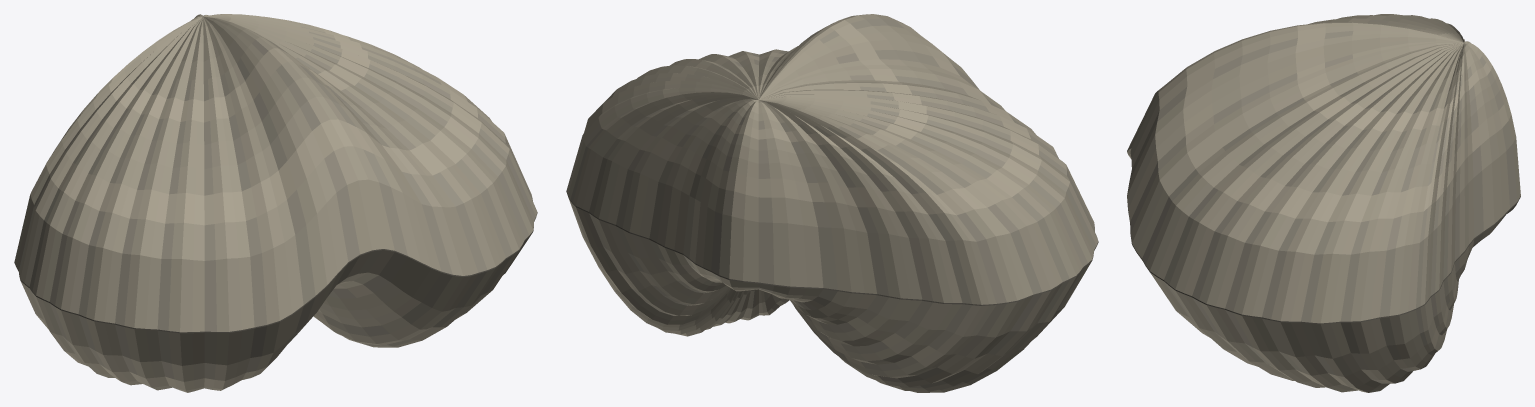
The model's file is paraspirifer.glb.
3 views of the same model, side by side, from view 1: azimuth 30°, elevation 25°; view 2: azimuth 150°, elevation 25°; view 3: azimuth 270°, elevation 25° (orthographic). The views are drawn at different scales.
Parts seen in each view (by area): view 1: Articulated shell · dorsal fold + ventral sulcus; view 2: Articulated shell · dorsal fold + ventral sulcus; view 3: Articulated shell · dorsal fold + ventral sulcus.
Boxes of the visible parts, box(x1,y1,x2,y2) form: Articulated shell · dorsal fold + ventral sulcus: box(14, 14, 537, 392); Articulated shell · dorsal fold + ventral sulcus: box(566, 14, 1098, 392); Articulated shell · dorsal fold + ventral sulcus: box(1127, 14, 1520, 392).
Bounding box in the file's own units: 0.04 × 0.0244 × 0.0288.
